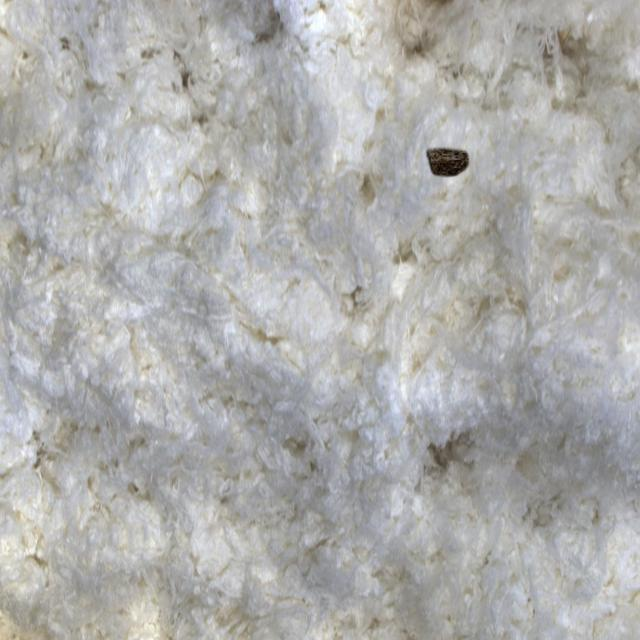dust: (395, 77, 508, 233)
